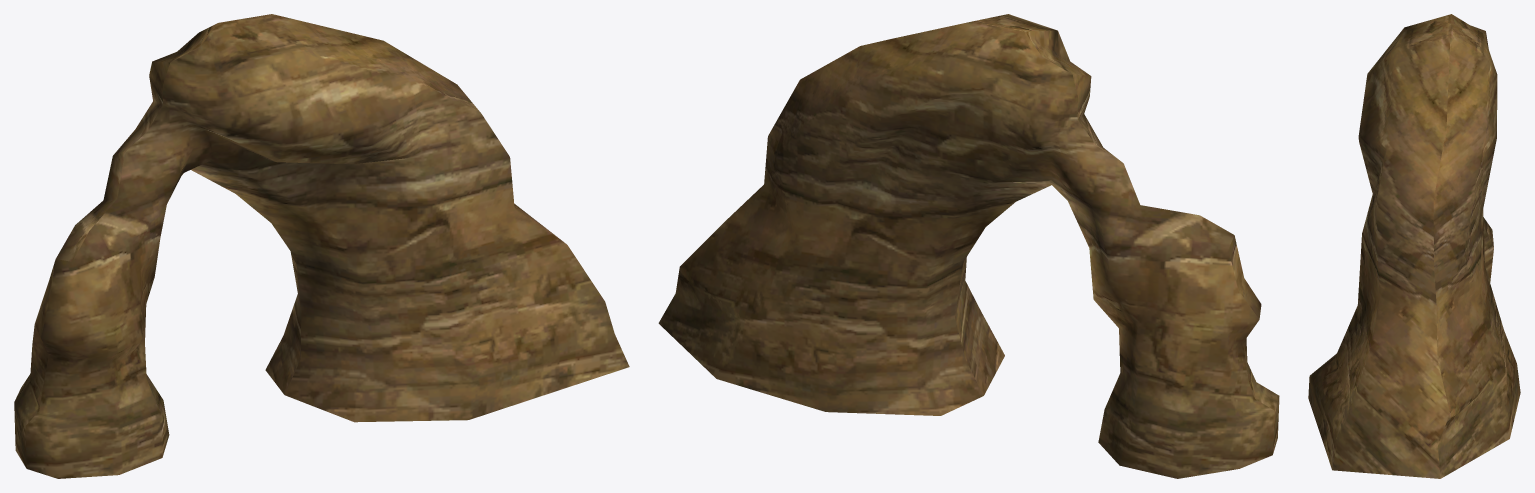
Rendered from environment_stone_shanya_002_a05.FBX.
The picture shows the model from 3 angles, left to right: view 1: azimuth 30°, elevation 25°; view 2: azimuth 150°, elevation 25°; view 3: azimuth 270°, elevation 25°; orthographic projection. The views are drawn at different scales.
Parts seen in each view (by area): view 1: environment_stone_shanya_002_a05; view 2: environment_stone_shanya_002_a05; view 3: environment_stone_shanya_002_a05.
Part boxes in pixels (box(x1,y1,x2,y2)): environment_stone_shanya_002_a05: box(14, 14, 629, 478); environment_stone_shanya_002_a05: box(658, 14, 1279, 478); environment_stone_shanya_002_a05: box(1308, 14, 1520, 478).
Size of the model in its own units: 525 by 325 by 198.
